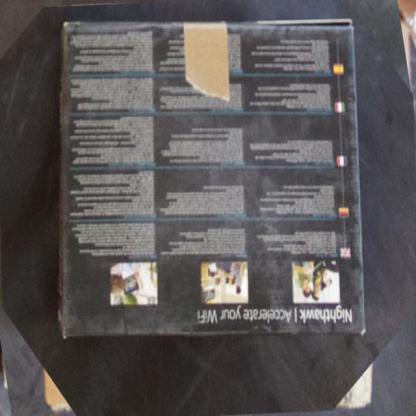cardboard: (57, 18, 361, 333)
